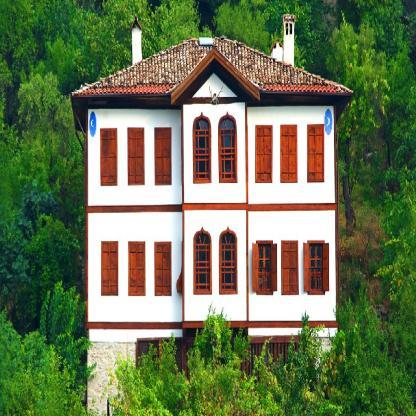Blind: (256, 125, 273, 183), (281, 125, 298, 183), (307, 125, 324, 183), (101, 129, 118, 187), (128, 128, 145, 186), (155, 128, 172, 186), (281, 241, 299, 295), (155, 242, 172, 296), (101, 242, 118, 296), (129, 242, 146, 296), (323, 244, 329, 291), (271, 244, 277, 291), (253, 244, 258, 291), (304, 244, 309, 291)
Building Outline: (70, 14, 354, 416)
Corner Stone: (87, 342, 136, 416), (304, 337, 339, 416)
Dont: (99, 295, 414, 416), (78, 361, 98, 382), (75, 337, 94, 359), (85, 399, 107, 416)
Door: (185, 327, 244, 416)
Facade: (84, 93, 336, 416)
Floor: (85, 211, 337, 323)
Floor Slab: (85, 320, 337, 330), (85, 203, 337, 213)
Ground Floor: (85, 328, 337, 416)
Roof: (70, 37, 354, 133)
Top Floor: (85, 105, 337, 206)
Window: (256, 125, 273, 183), (281, 125, 298, 183), (307, 125, 324, 183), (101, 129, 118, 187), (128, 128, 145, 186), (155, 128, 172, 186), (281, 241, 299, 295), (307, 241, 325, 295), (221, 118, 236, 180), (155, 242, 172, 296), (101, 242, 118, 296), (129, 242, 146, 296), (256, 241, 273, 295), (195, 119, 210, 180), (195, 233, 210, 292), (221, 233, 236, 290)
Window Hole: (193, 112, 212, 184), (219, 112, 238, 183), (219, 226, 238, 295), (193, 226, 212, 295)
